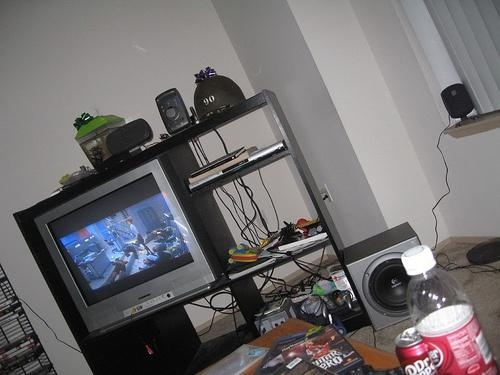bottle: (401, 245, 500, 375)
tvmonitor: (36, 159, 220, 337)
